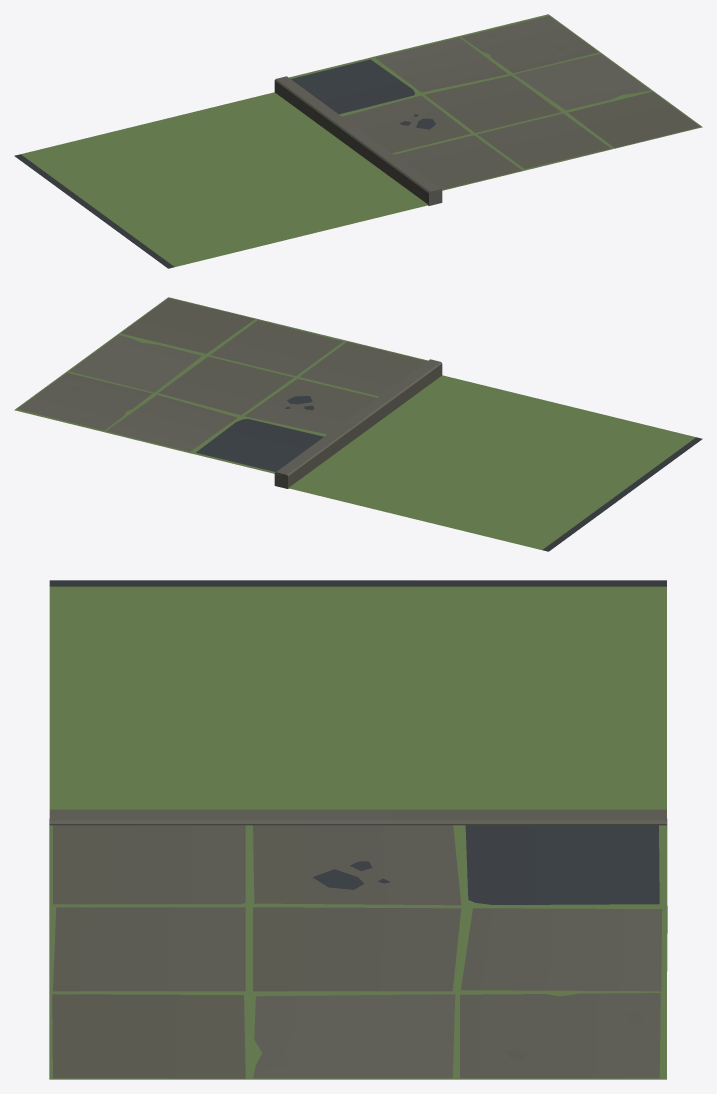
File: Road_08.fbx
The picture shows the model from 3 angles, top to bottom: view 1: azimuth 30°, elevation 25°; view 2: azimuth 150°, elevation 25°; view 3: azimuth 270°, elevation 25°; orthographic projection. The views are drawn at different scales.
Parts seen in each view (by area): view 1: Road_08; view 2: Road_08; view 3: Road_08.
Boxes of the visible parts, bbox=[...] form: Road_08: bbox=[14, 14, 702, 268]; Road_08: bbox=[14, 297, 702, 551]; Road_08: bbox=[49, 580, 667, 1079].
Size of the model in its own units: 6 by 0.15 by 3.01.
